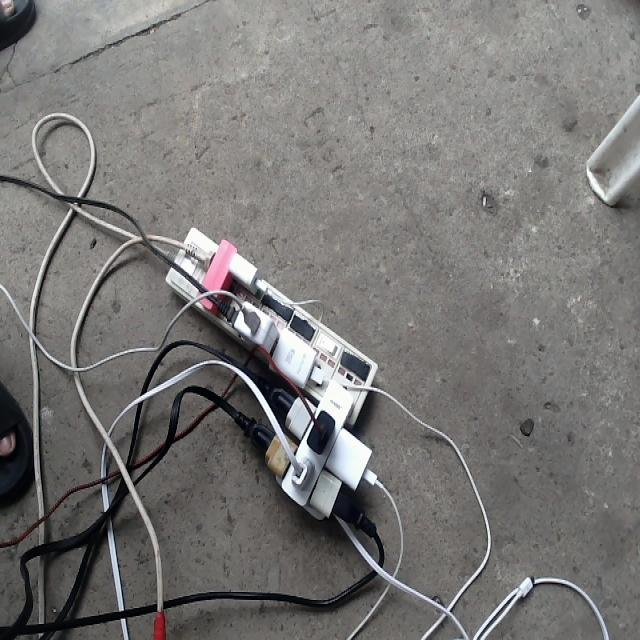-: (164, 225, 377, 519)
